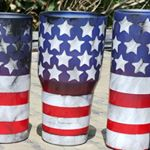cups: (34, 9, 110, 149)
